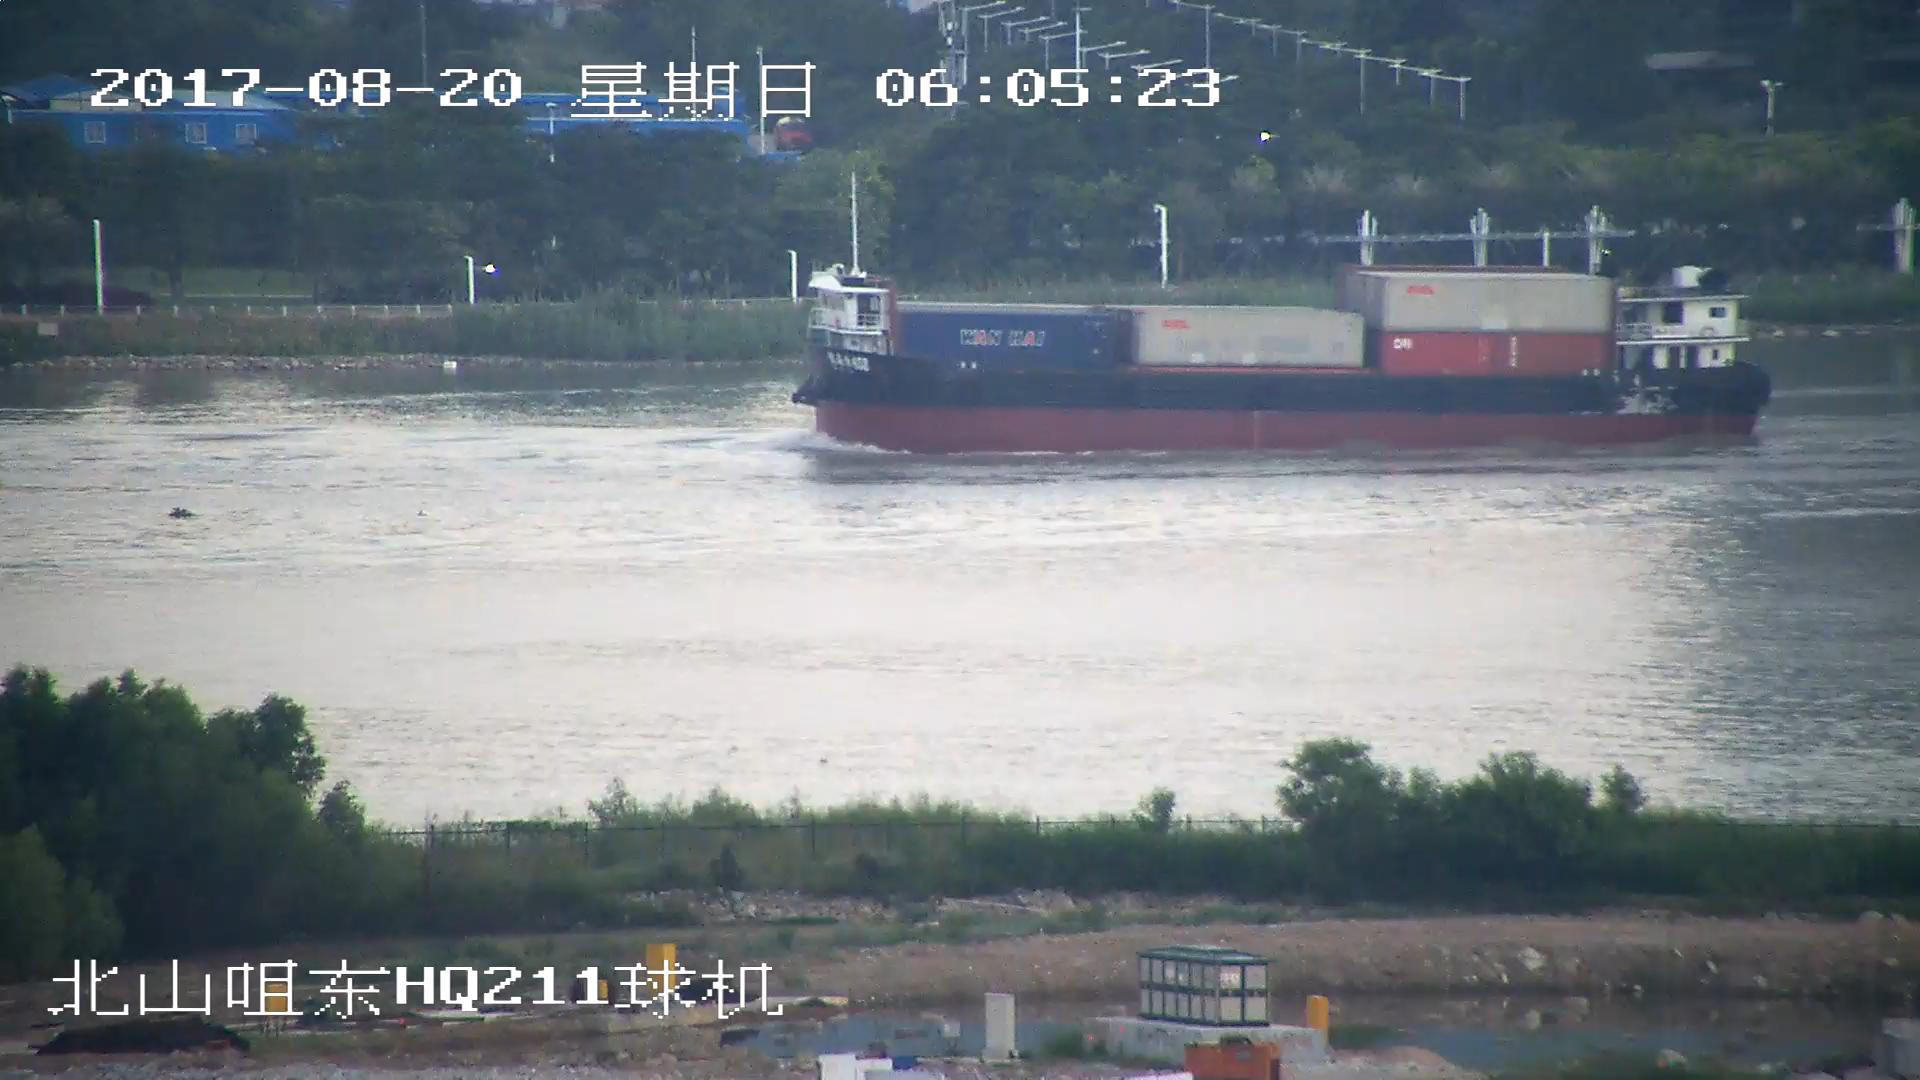container ship: (786, 176, 1775, 456)
